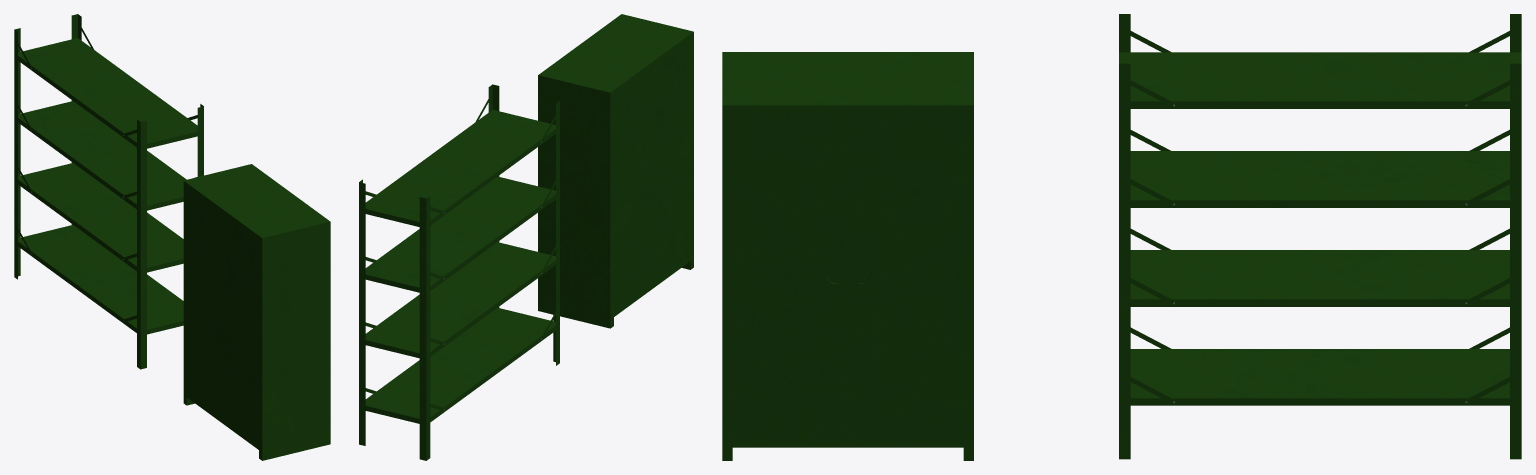
Rendered from locker_rack.fbx.
The picture shows the model from 3 angles, left to right: view 1: azimuth 30°, elevation 25°; view 2: azimuth 150°, elevation 25°; view 3: azimuth 270°, elevation 25°; orthographic projection. The views are drawn at different scales.
Visible parts, largest first — view 1: locker, rack; view 2: rack, locker; view 3: rack, locker_door_1, locker_door_2, locker.
Boxes of the visible parts, box(x1,y1,x2,y2) form: locker: box(183, 164, 330, 460); rack: box(14, 14, 203, 369); rack: box(359, 84, 559, 460); locker: box(538, 14, 693, 328); rack: box(1119, 14, 1521, 459); locker_door_1: box(727, 110, 843, 442); locker_door_2: box(853, 110, 968, 442); locker: box(722, 52, 973, 460).
Bounding box in the file's own units: 60 × 208 × 381.
1 material, 1 textured.
